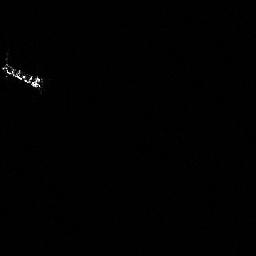ship: (1, 58, 47, 93)
